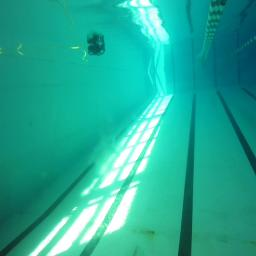Side: (88, 44, 106, 56)
